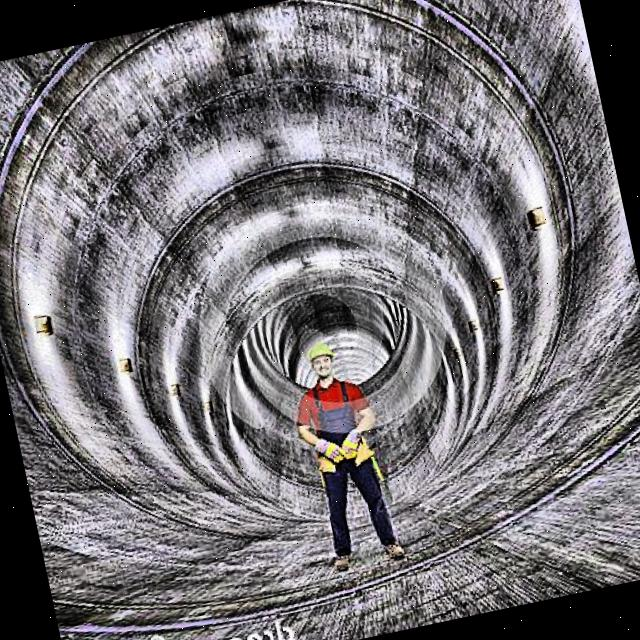helmet: (305, 338, 339, 385)
